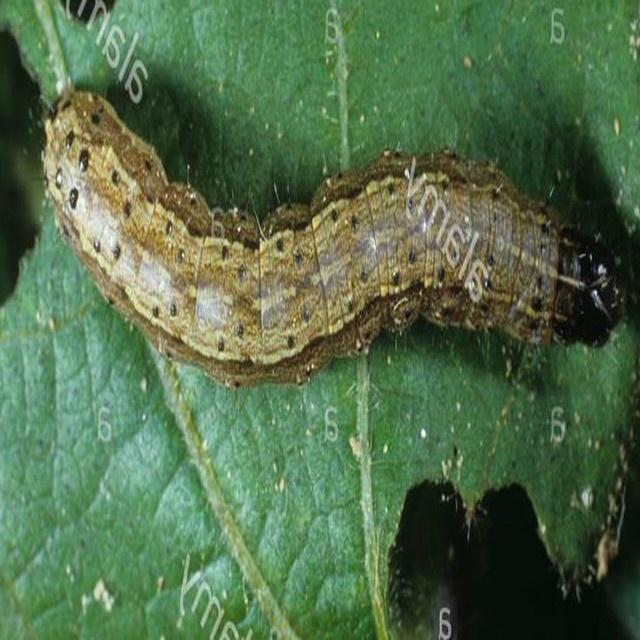gusano_cogollero: (33, 80, 640, 397)
